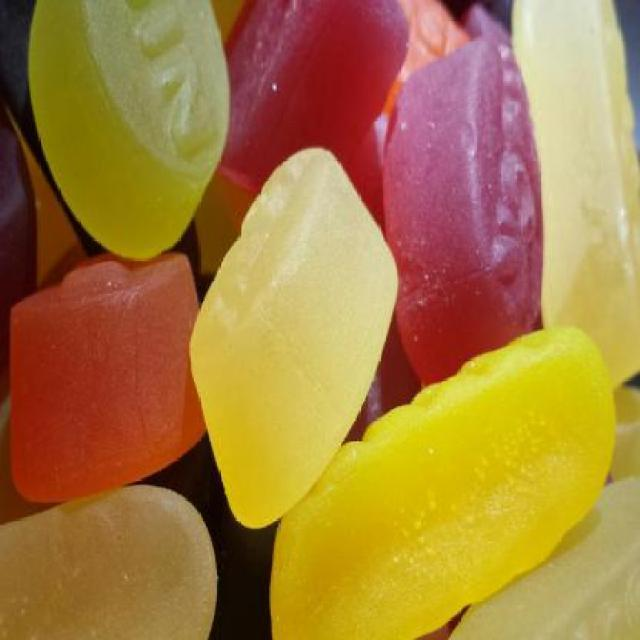Candy: (268, 318, 618, 640), (188, 141, 402, 534), (380, 32, 542, 383), (25, 0, 228, 260), (10, 248, 206, 507), (0, 0, 200, 249), (511, 0, 638, 380), (209, 0, 411, 202), (0, 483, 218, 639), (451, 475, 640, 640), (379, 0, 473, 126), (0, 111, 38, 383)
